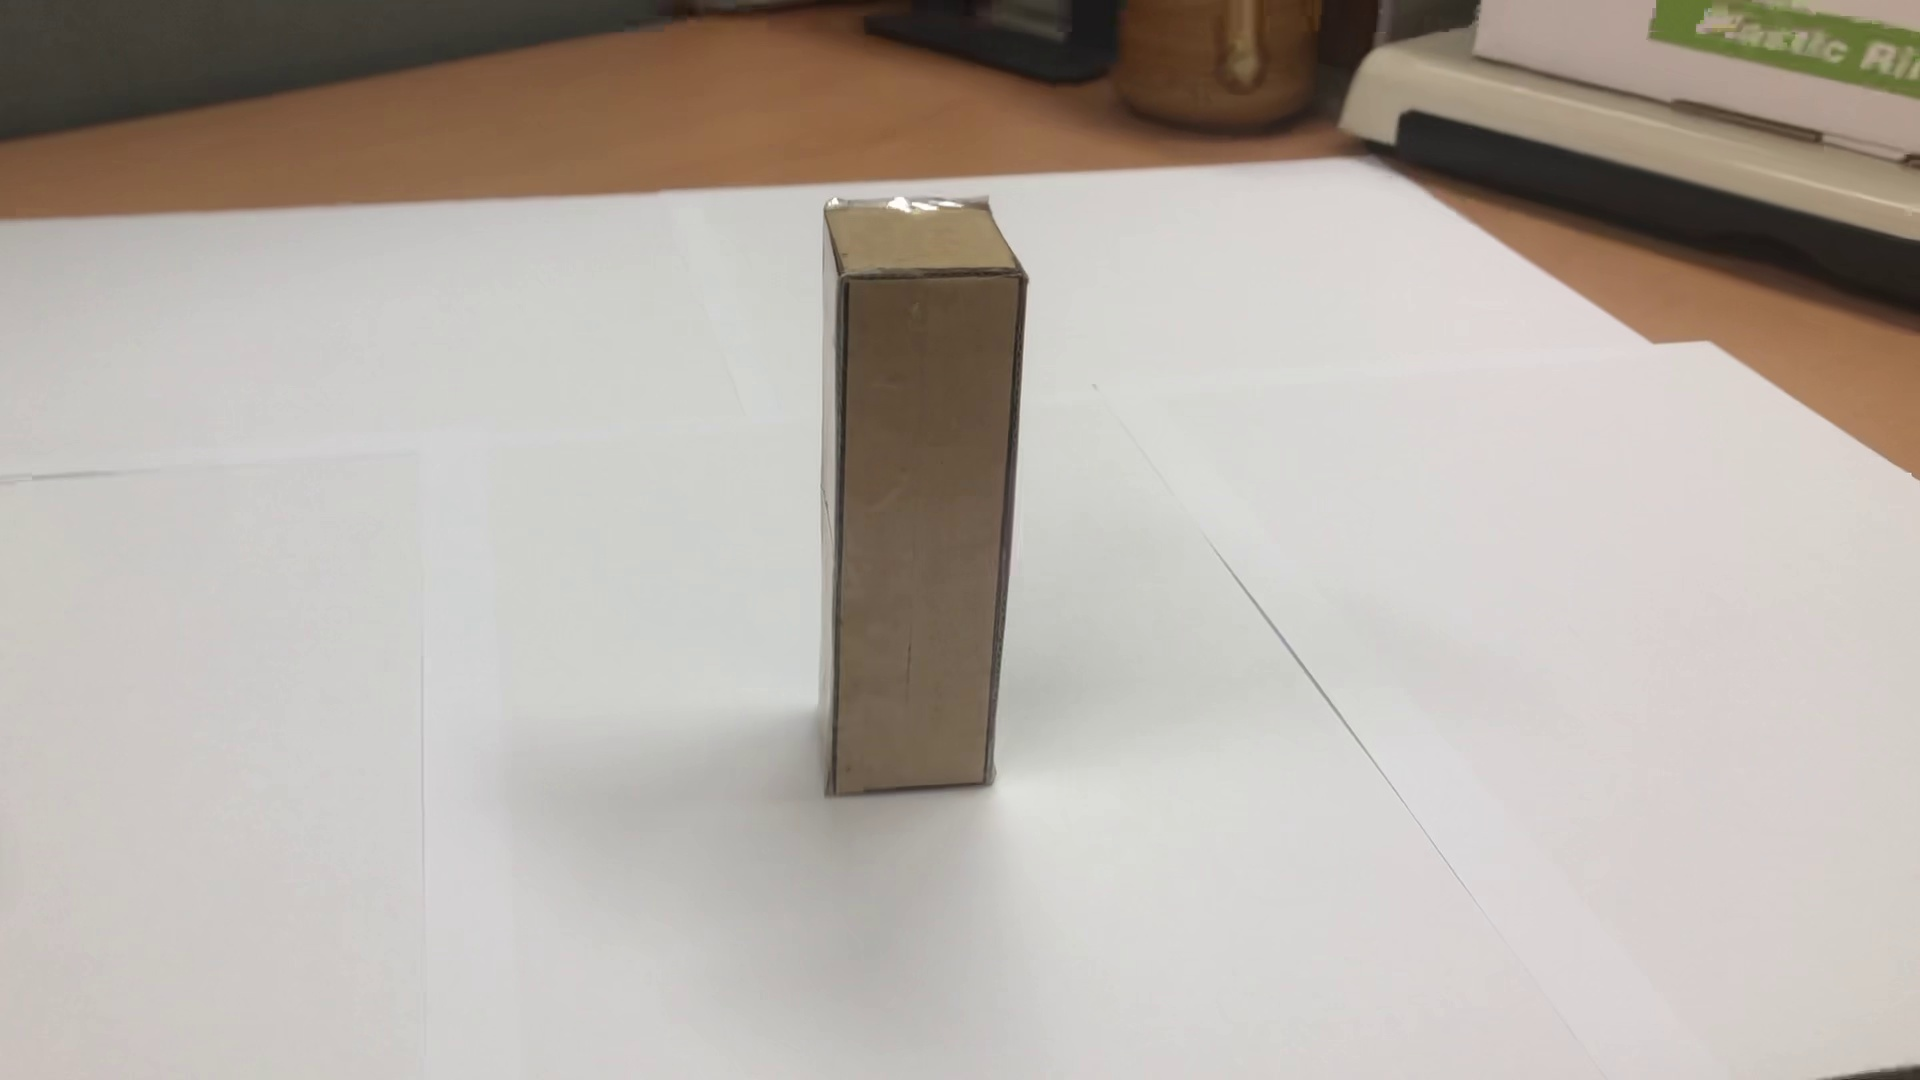box: (800, 193, 1043, 827)
